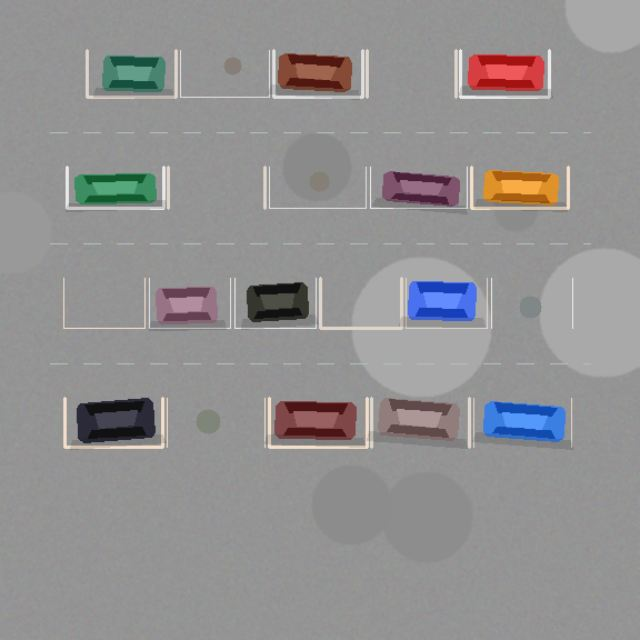space-empty: (167, 398, 264, 447), (180, 50, 269, 97), (367, 50, 456, 97), (63, 278, 144, 328), (320, 278, 401, 328), (491, 278, 572, 328), (269, 167, 366, 208), (168, 167, 264, 208)
space-occupied: (64, 398, 162, 447), (269, 398, 367, 447), (371, 398, 469, 447), (473, 398, 571, 447), (87, 50, 176, 97), (273, 50, 362, 97), (460, 50, 549, 97), (234, 278, 316, 328), (149, 278, 230, 328), (406, 278, 487, 328), (370, 167, 467, 208), (471, 167, 568, 208), (67, 167, 163, 208)
